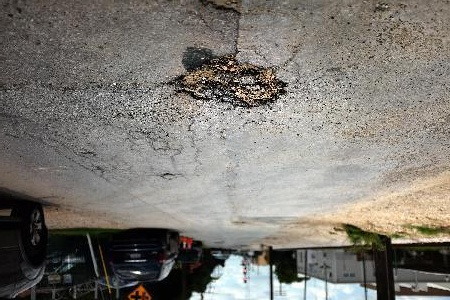pothole: (169, 55, 288, 108), (198, 0, 243, 18)
